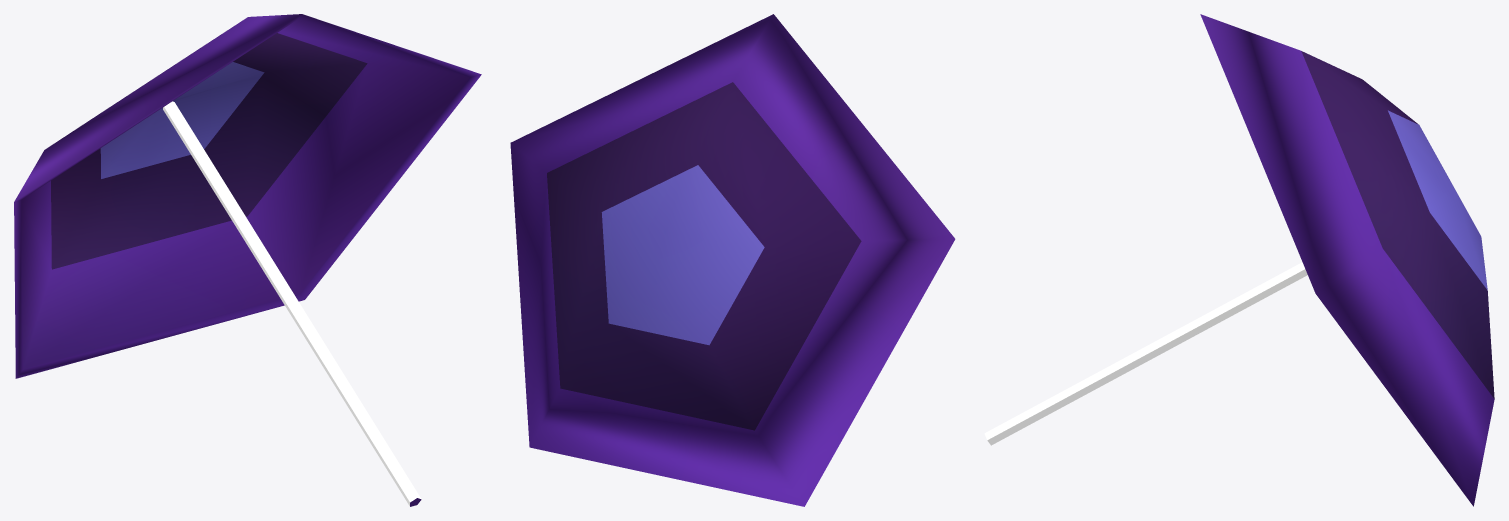
File: BeachUmbrellaOnGroundPurple.glb
3 views of the same model, side by side, from view 1: azimuth 30°, elevation 25°; view 2: azimuth 150°, elevation 25°; view 3: azimuth 270°, elevation 25° (orthographic). The views are drawn at different scales.
Parts seen in each view (by area): view 1: BeachUmbrellaOnGroundPurple; view 2: BeachUmbrellaOnGroundPurple; view 3: BeachUmbrellaOnGroundPurple.
Boxes of the visible parts, bbox=[...] form: BeachUmbrellaOnGroundPurple: bbox=[14, 14, 481, 506]; BeachUmbrellaOnGroundPurple: bbox=[510, 14, 955, 506]; BeachUmbrellaOnGroundPurple: bbox=[984, 14, 1494, 506].
Size of the model in its own units: 2.42 by 2.01 by 2.18.
1 material, 1 textured.
